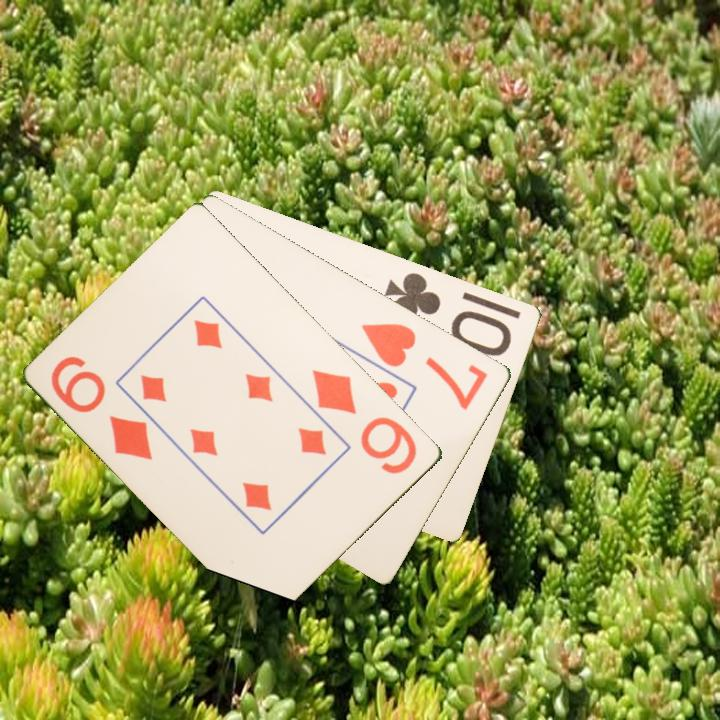10c: (381, 268, 515, 358)
6d: (308, 365, 421, 478), (47, 352, 156, 464)
7h: (358, 319, 491, 413)
